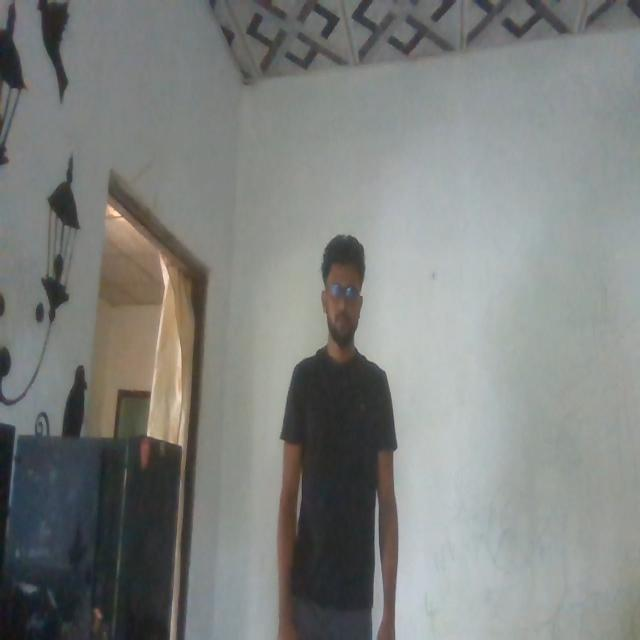Person: (268, 226, 399, 640)
